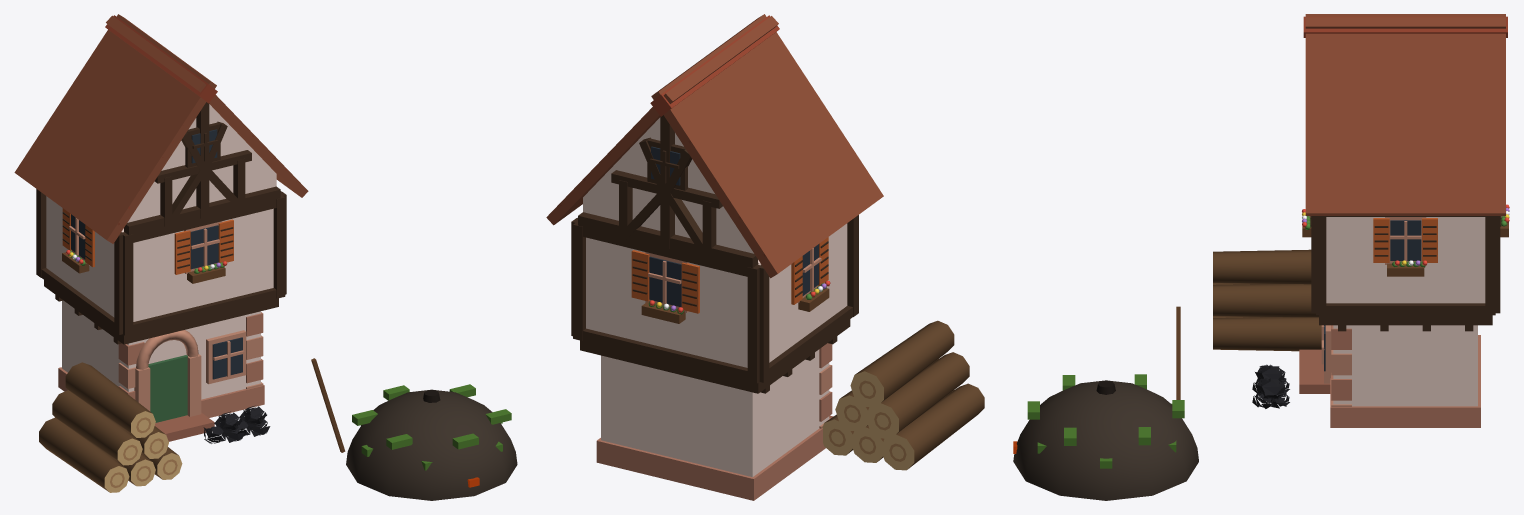
File: koehler.glb
The picture shows the model from 3 angles, left to right: view 1: azimuth 30°, elevation 25°; view 2: azimuth 150°, elevation 25°; view 3: azimuth 270°, elevation 25°; orthographic projection. The views are drawn at different scales.
Bounding box in the file's own units: 4.29 × 4.04 × 4.81.
